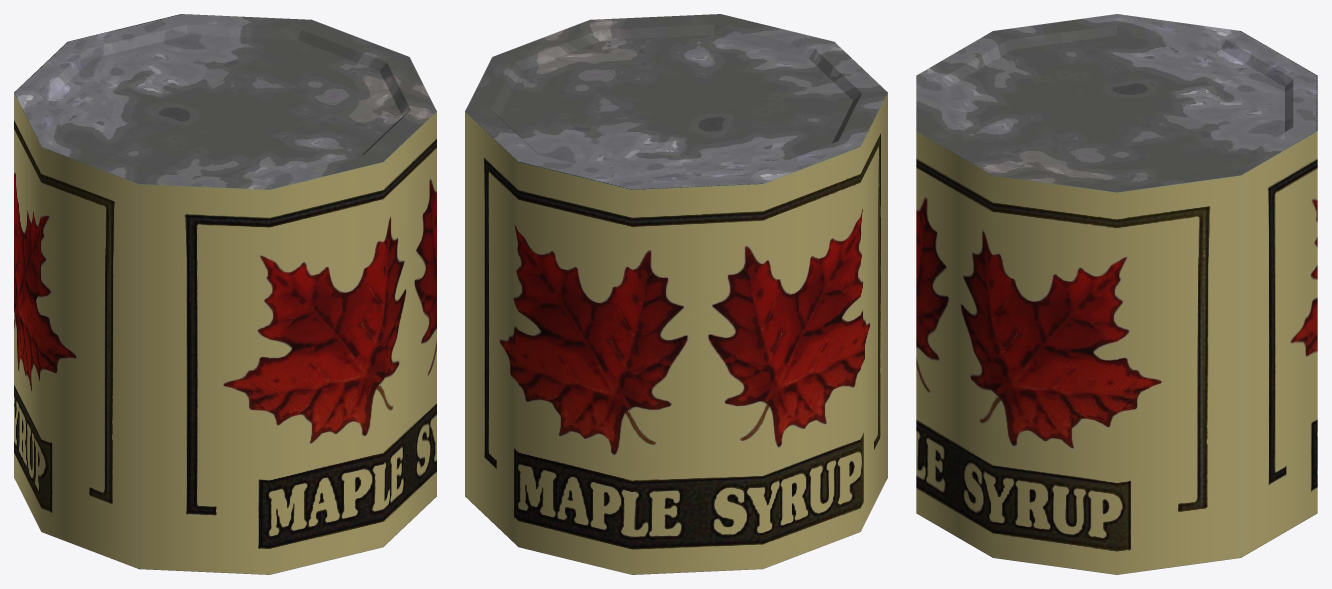
The model's file is SirupCan.FBX.
3 renders of one model, left to right at view 1: azimuth 30°, elevation 25°; view 2: azimuth 150°, elevation 25°; view 3: azimuth 270°, elevation 25°, orthographic.
Parts seen in each view (by area): view 1: Cylinder001; view 2: Cylinder001; view 3: Cylinder001.
Boxes of the visible parts, x1,y1,x2,y2 form: Cylinder001: (14,14,436,574); Cylinder001: (465,14,887,574); Cylinder001: (916,14,1317,574).
Size of the model in its own units: 11.81 by 11.81 by 11.23.
